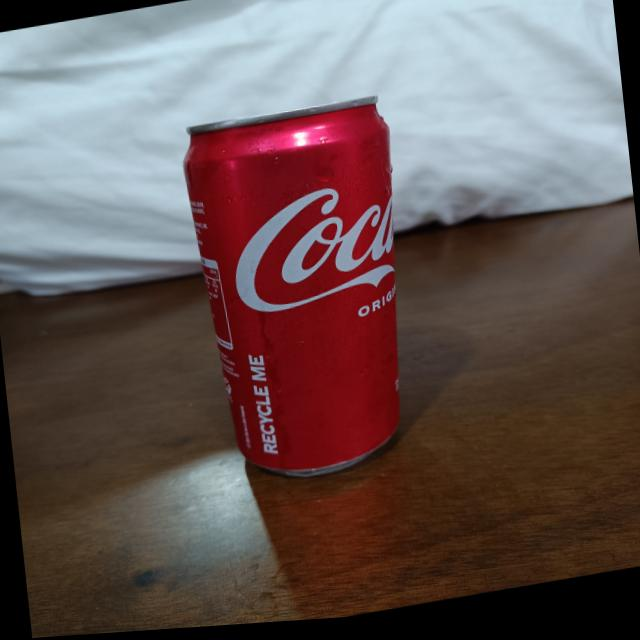coke: (186, 96, 424, 493)
